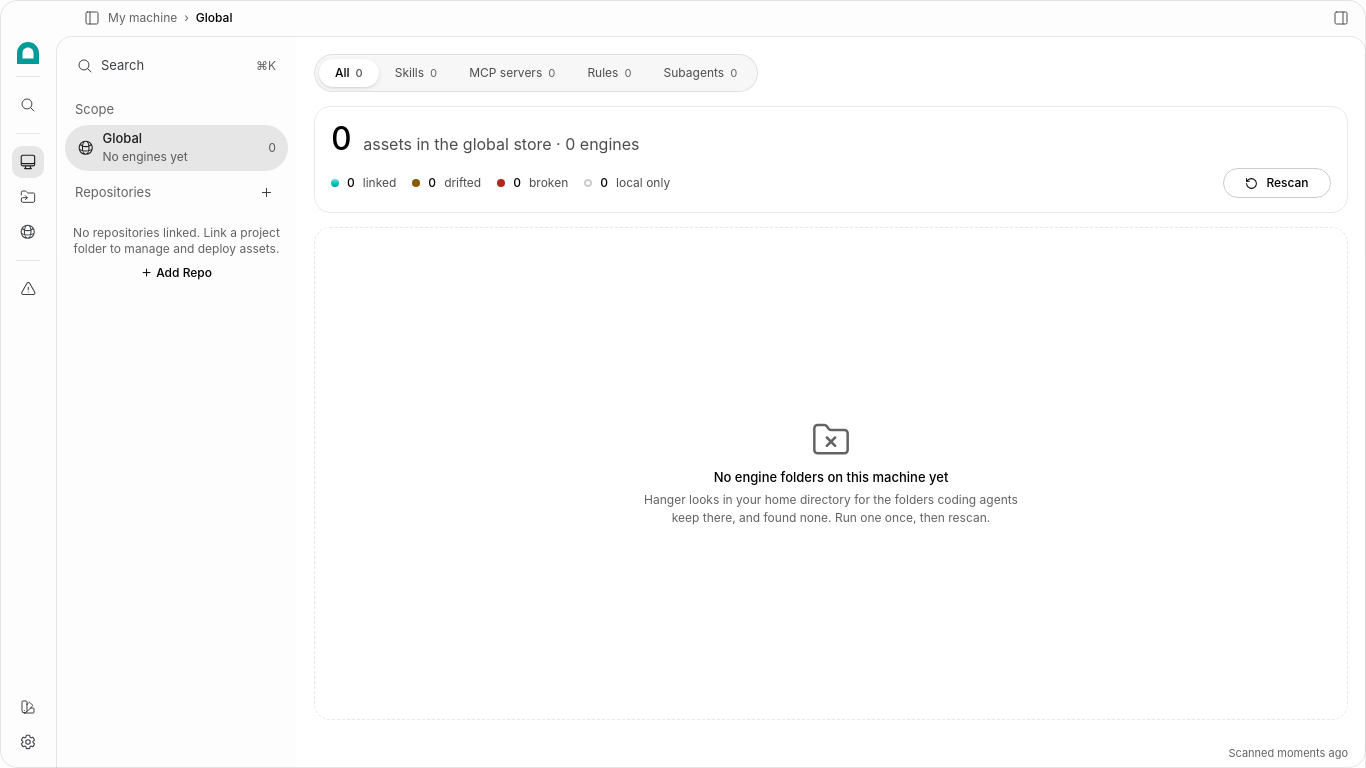
Test: Icon rail › carries a Search button beneath the mark, above the places, that opens the palette
Step 1. Click the button named "Search" → [28, 105], box 12,89 -> 44,121
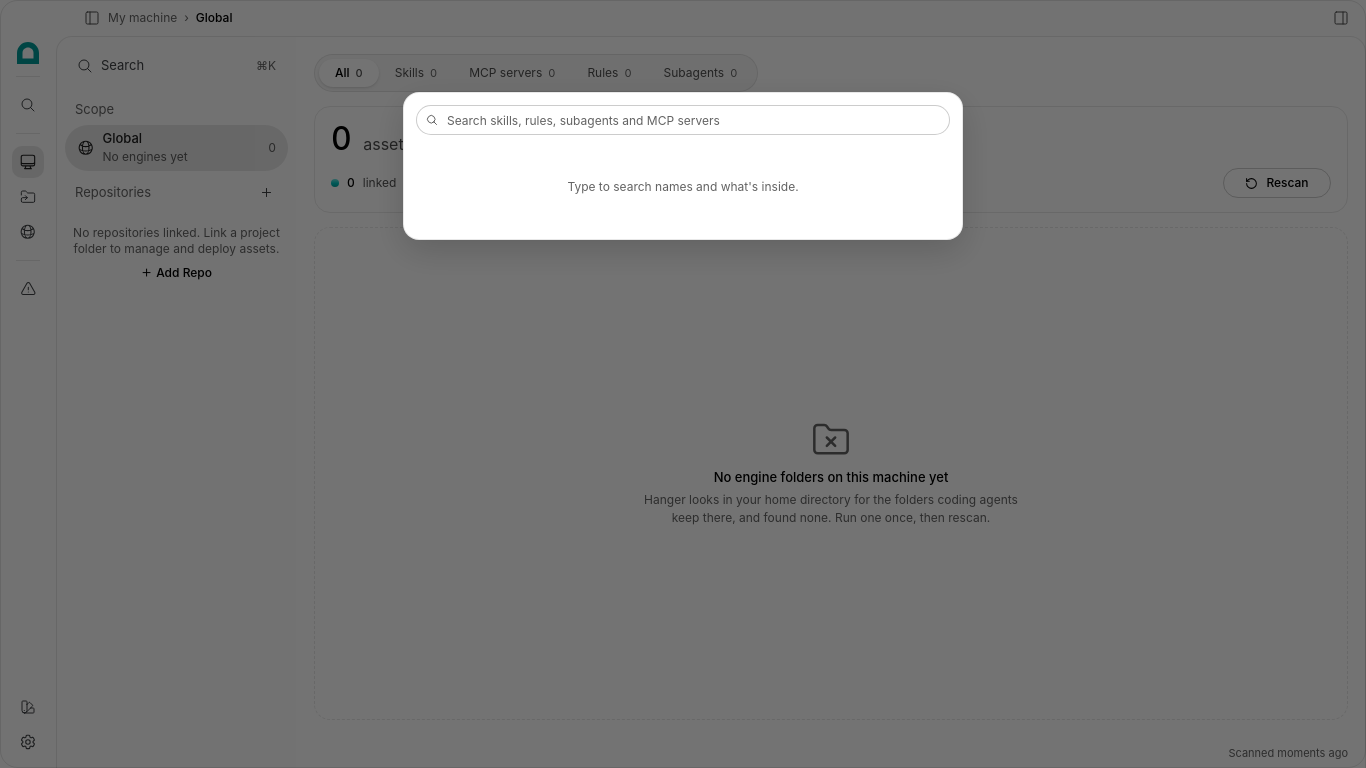
Now the dialog "search" is shown, box 403,92 -> 963,240
